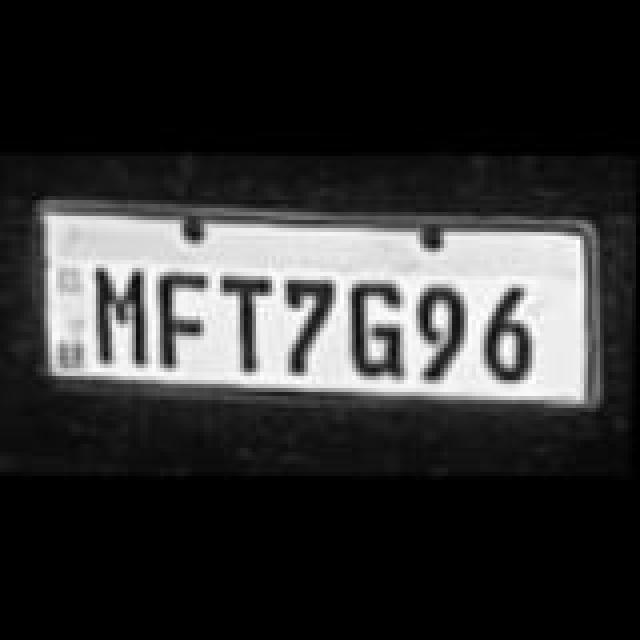6: (486, 288, 538, 388)
7: (286, 278, 338, 378)
9: (420, 286, 468, 386)
F: (156, 274, 212, 374)
G: (352, 284, 408, 384)
M: (94, 268, 154, 368)
T: (222, 274, 274, 374)
